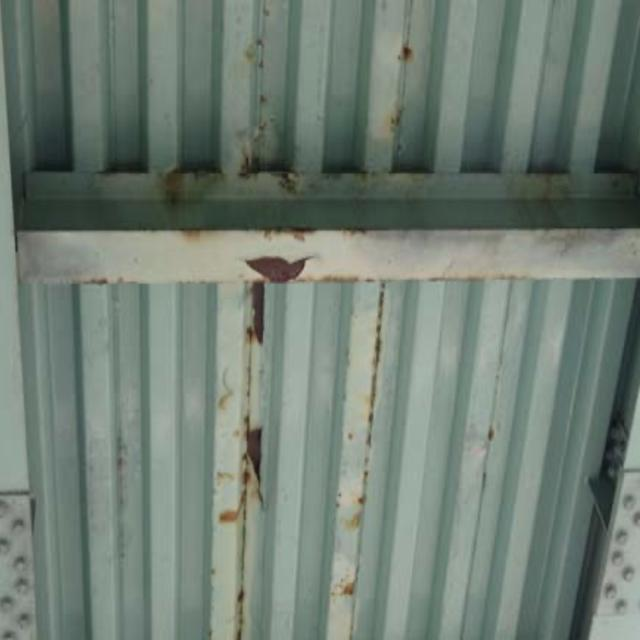corrosion: (167, 167, 307, 533)
